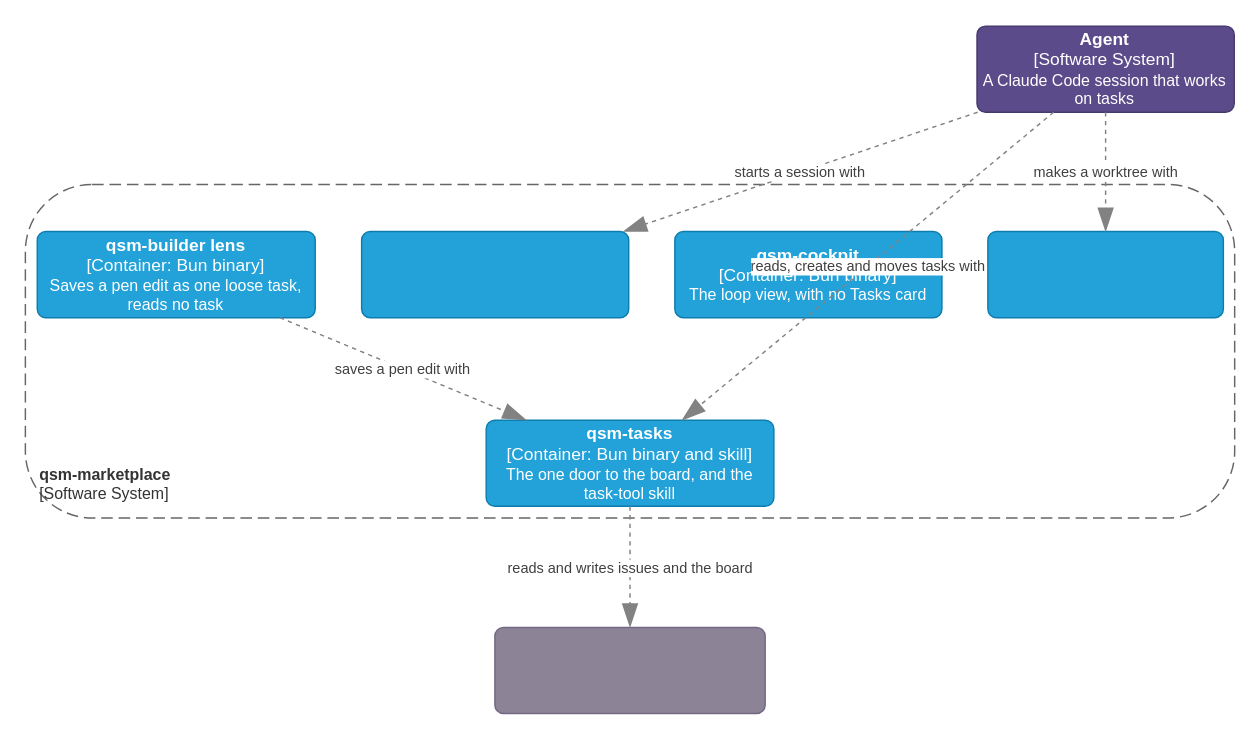
The diagram is 1260 pixels wide and 740 high, and some of its shapes have lost their labels. Here are the shapes that lost their labels. From the top down, the centre of each, then its label:
point 494,274: qsm-memory [Container: Bun binary] The session briefing, with no task lines
point 1104,274: qsm-worktrunk [Container: Bun binary] Worktrees, with no store redirect
point 629,670: GitHub [Software System] Issues, sub-issues, the board and its Action
